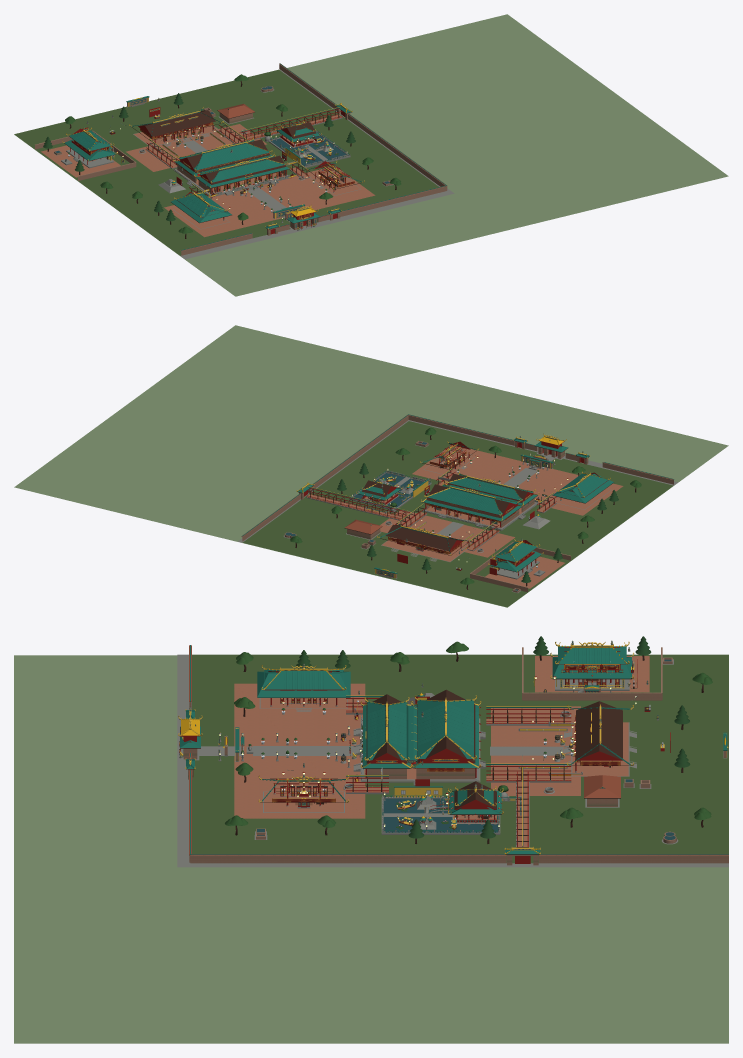
Rendered from T11_cung_dien_tho.glb.
3 renders of one model, top to bottom at view 1: azimuth 30°, elevation 25°; view 2: azimuth 150°, elevation 25°; view 3: azimuth 270°, elevation 25°, orthographic. The views are drawn at different scales.
Parts seen in each view (by area): view 1: T11_V2_Satellite_Seamless_Base, T11_Compound_Ground_Walls, T11_DienThoChinhDien, V10_BinhPhongLongMa_TranVoCua_VachDoBanRef14_BanTraTruongDuT, T11_KhuongNinhCac, T11_Forecourt_Wings, T11_TruongDuTa_Lake, T11_DienThoNinh; view 2: T11_V2_Satellite_Seamless_Base, T11_Compound_Ground_Walls, V10_BinhPhongLongMa_TranVoCua_VachDoBanRef14_BanTraTruongDuT, T11_DienThoChinhDien, T11_KhuongNinhCac, T11_Forecourt_Wings, T11_DienThoNinh, T11_TruongDuTa_Lake; view 3: T11_V2_Satellite_Seamless_Base, T11_Compound_Ground_Walls, T11_DienThoChinhDien, V10_BinhPhongLongMa_TranVoCua_VachDoBanRef14_BanTraTruongDuT, T11_KhuongNinhCac, T11_Forecourt_Wings, T11_TruongDuTa_Lake, T11_DienThoNinh, v05_SmoothHipRibs_And_CoDiem.
Part boxes in pixels (x1,y1,x2,y2): T11_V2_Satellite_Seamless_Base: (15,14,728,296); T11_Compound_Ground_Walls: (14,63,454,259); T11_DienThoChinhDien: (173,138,290,197); V10_BinhPhongLongMa_TranVoCua_VachDoBanRef14_BanTraTruongDuT: (73,98,350,226); T11_KhuongNinhCac: (35,129,136,180); T11_Forecourt_Wings: (171,162,362,229); T11_TruongDuTa_Lake: (158,122,350,193); T11_DienThoNinh: (131,103,254,147); T11_V2_Satellite_Seamless_Base: (14,325,728,607); T11_Compound_Ground_Walls: (238,414,677,607); V10_BinhPhongLongMa_TranVoCua_VachDoBanRef14_BanTraTruongDuT: (350,440,599,575); T11_DienThoChinhDien: (422,472,538,530); T11_KhuongNinhCac: (470,541,570,592); T11_Forecourt_Wings: (422,442,614,509); T11_DienThoNinh: (344,519,469,561); T11_TruongDuTa_Lake: (349,472,550,529); T11_V2_Satellite_Seamless_Base: (14,655,728,1043); T11_Compound_Ground_Walls: (177,645,728,867); T11_DienThoChinhDien: (353,698,485,785); V10_BinhPhongLongMa_TranVoCua_VachDoBanRef14_BanTraTruongDuT: (193,647,670,832); T11_KhuongNinhCac: (522,644,662,700); T11_Forecourt_Wings: (257,667,350,812); T11_TruongDuTa_Lake: (381,693,501,834); T11_DienThoNinh: (564,704,636,807); v05_SmoothHipRibs_And_CoDiem: (182,668,630,814).
Size of the model in its own units: 225 by 11.28 by 175.
Materials: 20 (4 with a texture image).
